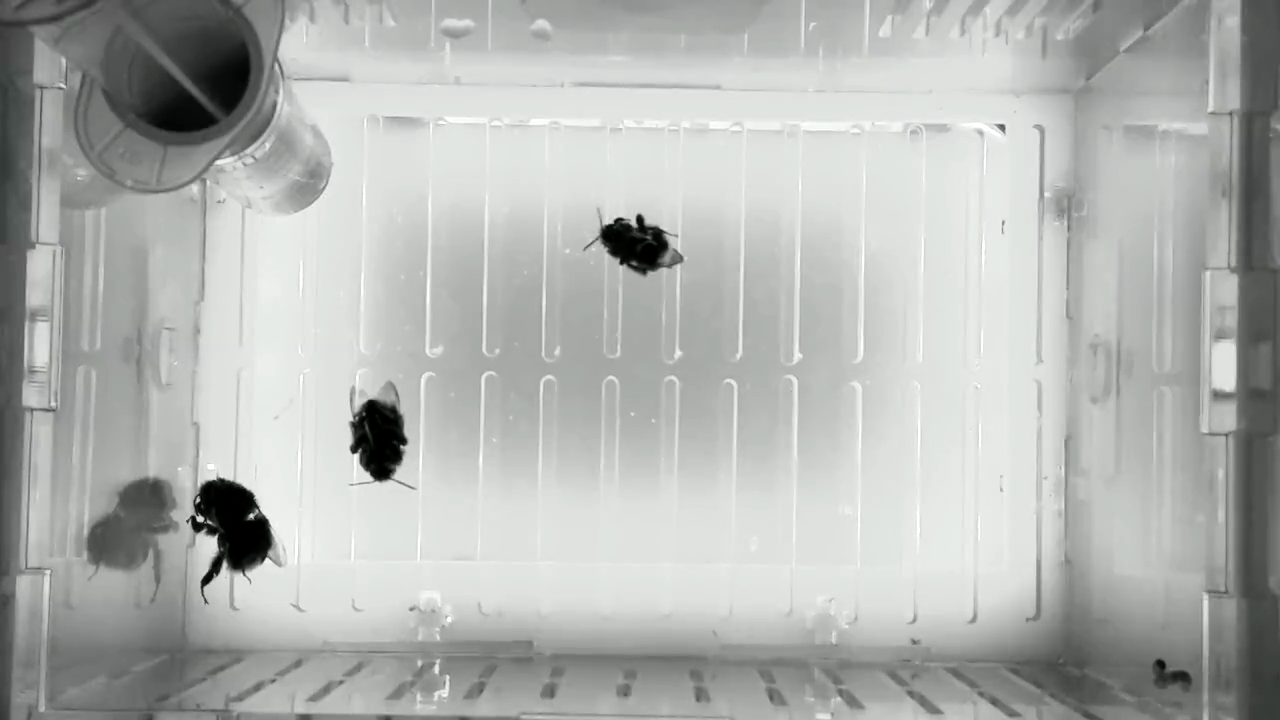bee_alive: (187, 472, 289, 610)
bee_dead: (341, 378, 422, 496), (580, 202, 688, 280)
feeder: (202, 65, 337, 222)
